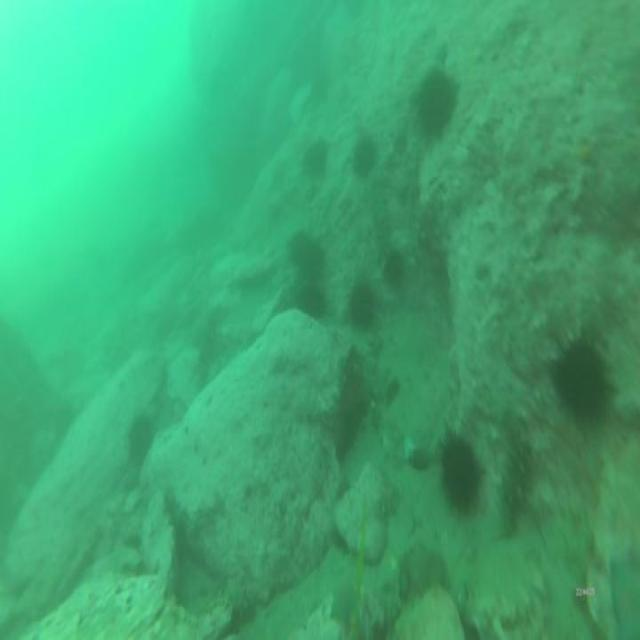echinus: (550, 324, 614, 438), (438, 421, 487, 514), (414, 65, 459, 147), (336, 369, 371, 454), (289, 225, 325, 278), (348, 278, 382, 334), (292, 278, 329, 324), (126, 414, 156, 465), (350, 134, 380, 184), (302, 136, 332, 183), (382, 246, 406, 294)
holothurian: (496, 409, 536, 542)
